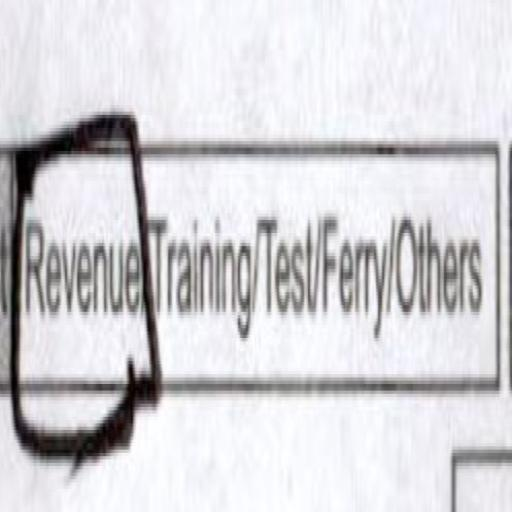check: (17, 83, 150, 447)
